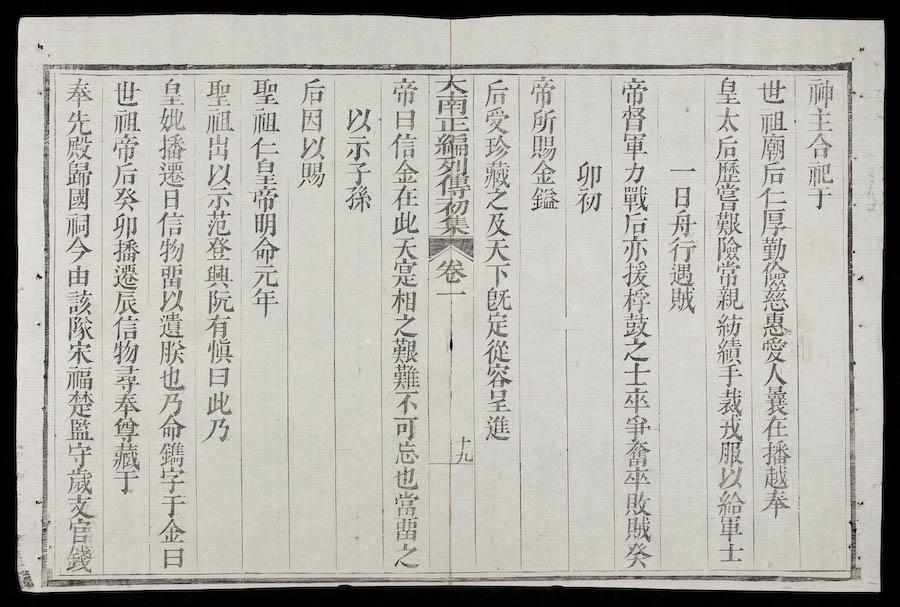c: (249, 77, 283, 108), (201, 77, 234, 108), (803, 77, 837, 107), (108, 442, 143, 471), (527, 76, 559, 107), (759, 385, 792, 415), (62, 466, 96, 495), (433, 257, 469, 284), (712, 76, 743, 107), (110, 78, 143, 107), (62, 77, 95, 106), (759, 490, 793, 518), (62, 391, 97, 418), (156, 77, 187, 107), (618, 77, 650, 106), (714, 387, 746, 416), (434, 173, 471, 198), (62, 108, 95, 136), (480, 161, 513, 189), (201, 416, 234, 444), (755, 78, 788, 106), (155, 133, 188, 161), (388, 260, 421, 288), (432, 133, 470, 157), (297, 77, 328, 106), (573, 159, 604, 188), (248, 288, 280, 316), (757, 208, 789, 236), (109, 134, 141, 162), (666, 209, 698, 237), (481, 414, 513, 442), (295, 161, 327, 189), (388, 78, 420, 106), (619, 184, 651, 212), (64, 546, 97, 573), (63, 517, 96, 544), (758, 311, 791, 338), (621, 490, 654, 517), (620, 386, 653, 413), (248, 236, 281, 263), (248, 109, 281, 136), (756, 108, 789, 135), (109, 263, 142, 290), (389, 364, 422, 391), (155, 339, 188, 366), (155, 161, 188, 188), (528, 186, 561, 213), (62, 365, 96, 391), (246, 186, 281, 211), (621, 438, 652, 466), (343, 105, 374, 133), (712, 107, 743, 135), (343, 185, 374, 213), (481, 107, 512, 135), (156, 466, 188, 493), (617, 105, 649, 132), (804, 107, 836, 134), (156, 518, 188, 545), (390, 542, 422, 569), (62, 237, 94, 264), (803, 133, 835, 160), (619, 235, 651, 262), (202, 210, 234, 237), (666, 287, 698, 314), (388, 132, 420, 159), (110, 365, 142, 392), (620, 312, 652, 339), (757, 286, 790, 312), (621, 516, 654, 542), (621, 542, 654, 568), (62, 441, 95, 467), (109, 416, 142, 442), (109, 108, 142, 134), (202, 263, 235, 289), (202, 108, 235, 134), (62, 289, 95, 315), (433, 94, 470, 117), (759, 440, 793, 465), (156, 493, 190, 518), (665, 237, 699, 262), (482, 78, 511, 107), (62, 495, 97, 519), (390, 490, 421, 517), (156, 414, 187, 441), (619, 132, 650, 159), (110, 289, 141, 316), (482, 312, 513, 339), (713, 338, 744, 365), (202, 134, 233, 161), (155, 312, 186, 339), (757, 135, 788, 162), (155, 211, 186, 238), (712, 184, 743, 211), (713, 312, 744, 339), (758, 262, 790, 288), (248, 160, 280, 186), (482, 388, 514, 414), (804, 161, 836, 187), (714, 490, 746, 516), (64, 315, 96, 341), (620, 262, 652, 288), (342, 135, 374, 161), (155, 107, 187, 133), (389, 185, 421, 211), (389, 210, 421, 236), (389, 338, 421, 364), (712, 286, 744, 312), (63, 161, 95, 187), (757, 236, 789, 262), (758, 338, 791, 363), (619, 288, 652, 313), (202, 289, 235, 314), (109, 392, 142, 417), (247, 136, 281, 160), (203, 389, 233, 416), (528, 108, 558, 135), (62, 212, 93, 238), (110, 187, 141, 213), (110, 315, 141, 341), (203, 338, 234, 364), (759, 415, 791, 440), (109, 340, 141, 365), (156, 441, 188, 466), (202, 237, 234, 262), (63, 135, 95, 160), (63, 340, 96, 364), (297, 107, 326, 134), (433, 197, 472, 217), (110, 213, 140, 239), (297, 135, 327, 161), (528, 135, 558, 161), (156, 238, 186, 264), (110, 162, 140, 188), (715, 415, 745, 441), (433, 74, 470, 95), (435, 215, 472, 236), (621, 413, 652, 438), (390, 415, 421, 440), (715, 465, 746, 490), (620, 338, 651, 363), (482, 339, 513, 364), (713, 236, 744, 261), (713, 211, 744, 236), (666, 262, 697, 287), (572, 189, 603, 214), (110, 238, 141, 263), (528, 161, 559, 186), (388, 289, 419, 314), (389, 160, 420, 185), (482, 238, 513, 263), (481, 135, 512, 160), (621, 465, 653, 489), (714, 516, 746, 540), (804, 187, 836, 211), (110, 471, 142, 495), (760, 465, 792, 489), (63, 418, 95, 442), (249, 264, 281, 288), (483, 212, 512, 238), (391, 517, 421, 542), (391, 440, 421, 465), (156, 264, 186, 289), (758, 163, 788, 188), (713, 160, 743, 185), (620, 212, 651, 236), (483, 364, 514, 388), (621, 362, 652, 386), (712, 261, 743, 285), (390, 391, 421, 415), (157, 546, 189, 569), (668, 183, 696, 209), (756, 187, 789, 209), (64, 187, 93, 212), (204, 162, 233, 187), (716, 441, 745, 466), (484, 287, 513, 312), (63, 264, 93, 288), (157, 289, 187, 313), (390, 314, 420, 338), (156, 367, 186, 391), (249, 212, 279, 236), (390, 236, 420, 260), (343, 161, 373, 185), (203, 314, 233, 338), (715, 542, 746, 565), (759, 363, 790, 386), (203, 187, 234, 210), (713, 135, 741, 160), (431, 116, 472, 133), (391, 466, 420, 490), (714, 364, 744, 387), (483, 263, 513, 286), (620, 161, 648, 185), (157, 392, 186, 415), (390, 108, 419, 131), (482, 189, 511, 212), (433, 158, 470, 176), (434, 286, 469, 305), (205, 365, 232, 388), (158, 188, 184, 211), (666, 161, 698, 179), (454, 433, 472, 450), (454, 450, 473, 464)
